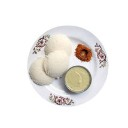idly: (45, 52, 69, 78), (46, 33, 72, 56), (31, 59, 54, 85)
